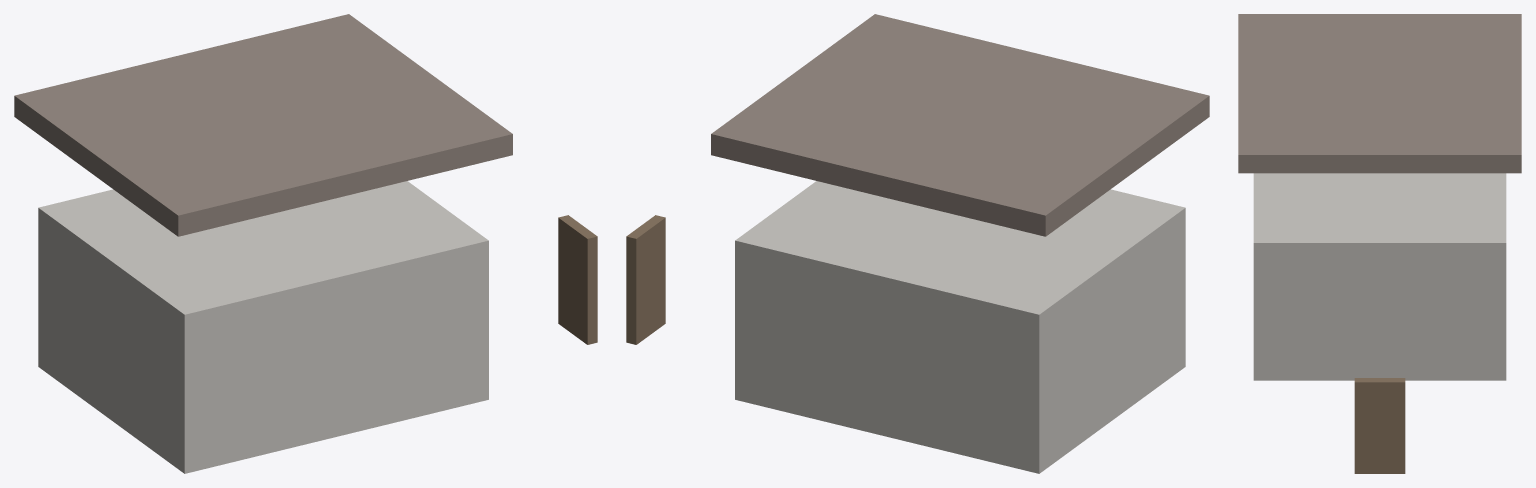
Rendered from building_house_small.glb.
3 renders of one model, left to right at view 1: azimuth 30°, elevation 25°; view 2: azimuth 150°, elevation 25°; view 3: azimuth 270°, elevation 25°, orthographic. The views are drawn at different scales.
Parts seen in each view (by area): view 1: building_house_small; view 2: building_house_small; view 3: building_house_small.
Part boxes in pixels (<box>): building_house_small: <box>14,14,597,473</box>; building_house_small: <box>626,14,1209,473</box>; building_house_small: <box>1238,14,1521,473</box>.
Size of the model in its own units: 4.8 by 2.78 by 2.8.
